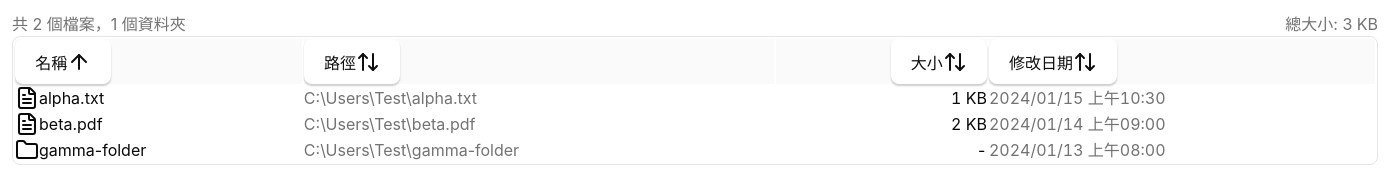
Test: FileTable › sort icon states › should show descending icon after second click
# Click twice on modified date header
Click the button "修改日期".
click(1053, 62)  # box [989, 39, 1117, 84]
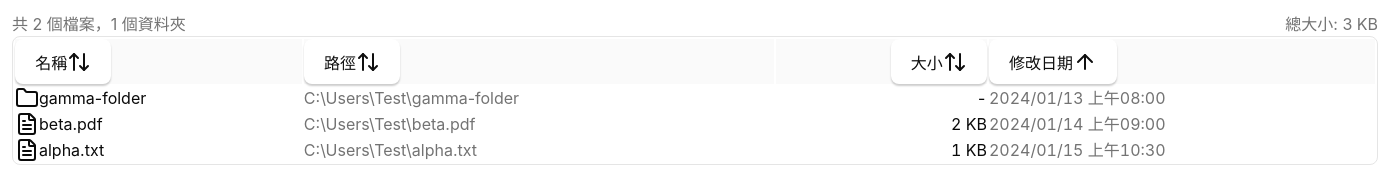
Click the button "修改日期".
click(1053, 62)  # box [989, 39, 1117, 84]
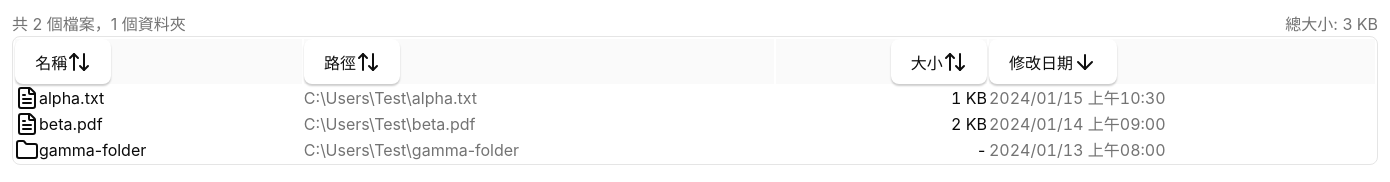
Result: the button "修改日期" is shown at [989, 39, 1117, 84]
